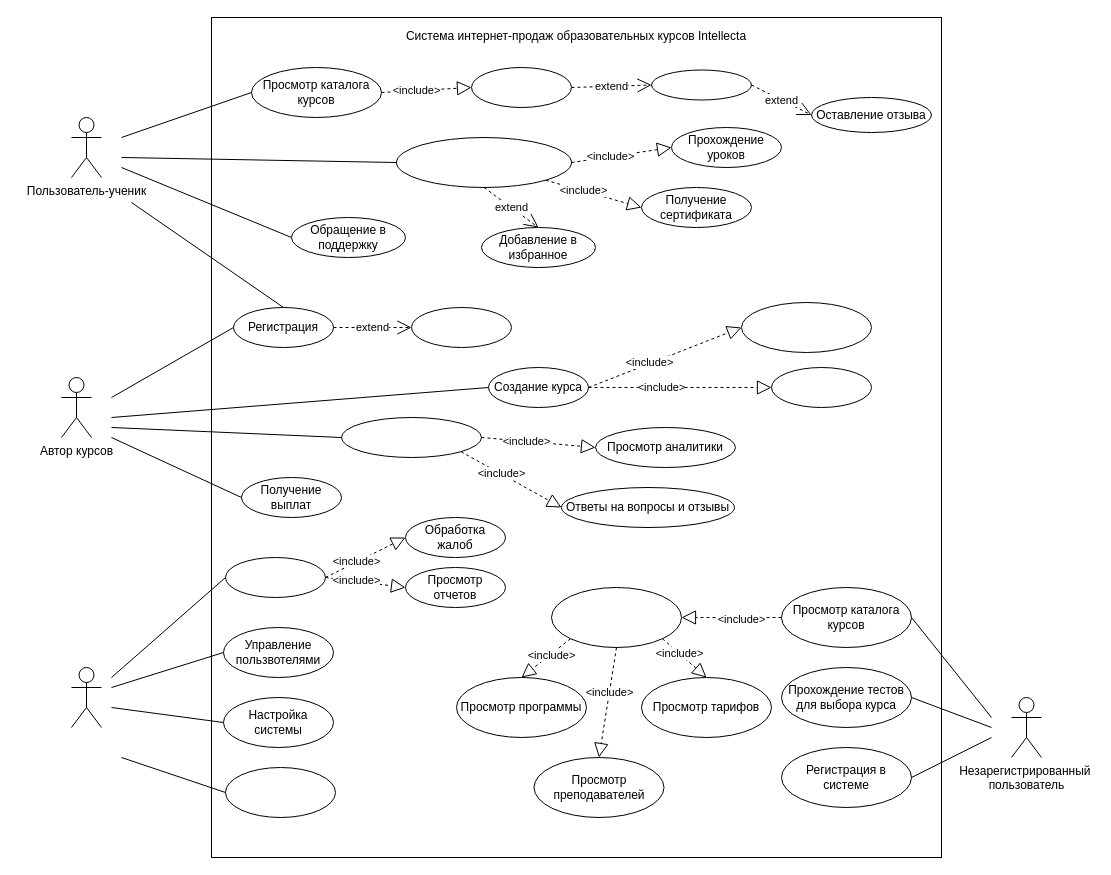
The diagram is 1111 pixels wide and 875 high, and some of its shapes have lost their labels. Here are the shapes that lost their labels. From the top down, the centre of each, then its label:
At (x=521, y=87): "Получение рекомендаций".
At (x=701, y=84): "Покупка курса".
At (x=484, y=162): "Просмотр купленных курсов".
At (x=461, y=327): "Аутентификация".
At (x=806, y=327): "Загрузка учебных материалов".
At (x=821, y=387): "Установка цены".
At (x=411, y=437): "Редактирование курса".
At (x=275, y=577): "Модерация курсов".
At (x=616, y=617): "Просмотр описания курса".
At (x=86, y=697): "Администратор системы".
At (x=280, y=792): "Управление платежными модулями".
